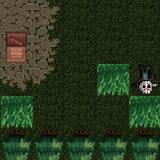Hide: (0, 26, 36, 70)
Jason: (130, 64, 160, 96)
Obstacle: (0, 128, 33, 160), (32, 128, 64, 160), (96, 128, 128, 160), (65, 129, 96, 160), (129, 129, 160, 160)
Slow: (1, 96, 34, 128), (97, 64, 130, 96), (129, 96, 160, 128)
